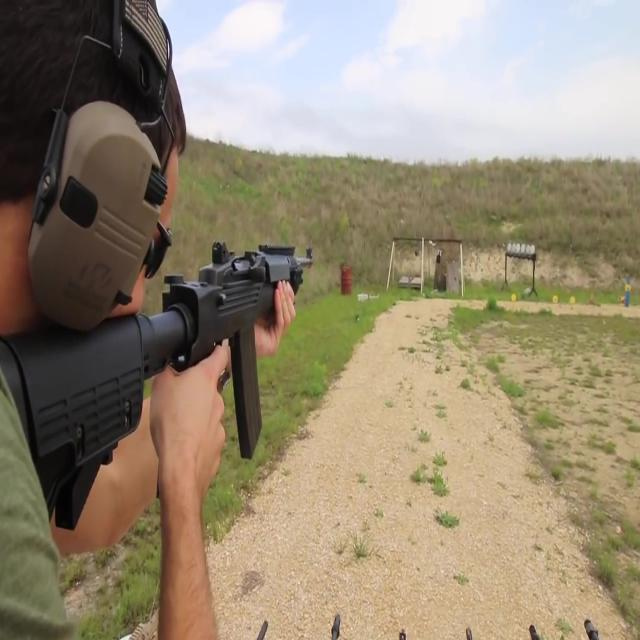Weapon: (0, 249, 319, 483), (576, 593, 610, 640), (318, 611, 370, 640), (385, 605, 415, 640), (256, 601, 277, 640), (520, 608, 544, 640), (458, 618, 482, 640)
